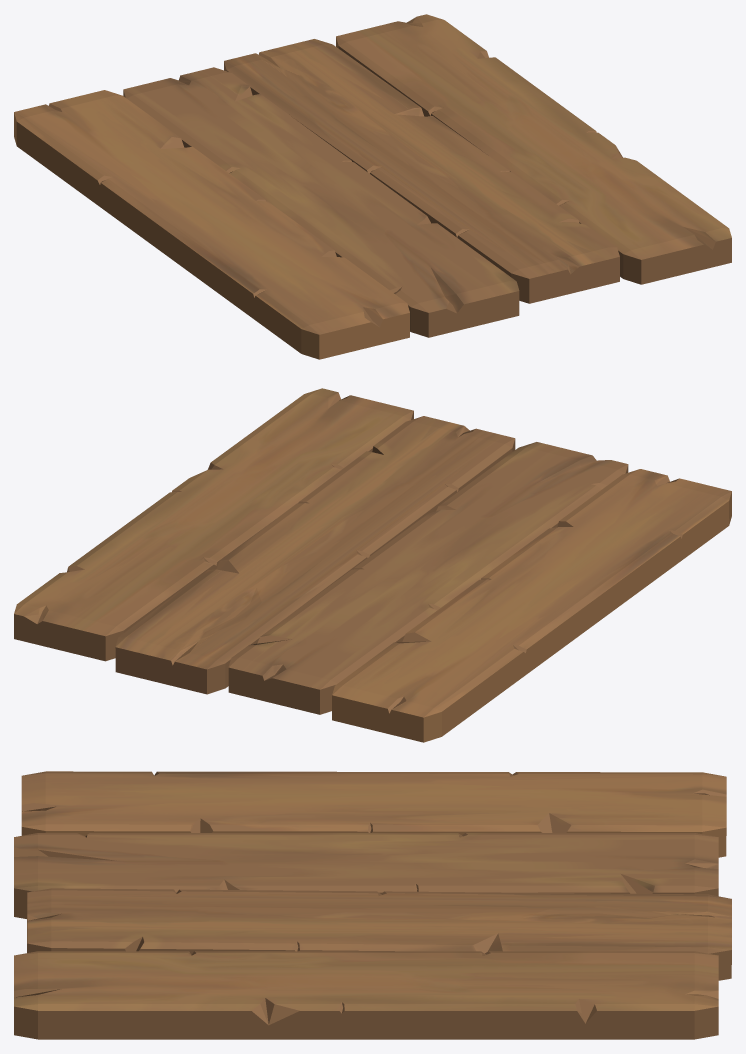
The model's file is wooden_table.glb.
3 renders of one model, top to bottom at view 1: azimuth 30°, elevation 25°; view 2: azimuth 150°, elevation 25°; view 3: azimuth 270°, elevation 25°, orthographic. The views are drawn at different scales.
Visible parts, largest first — view 1: Board1, Board4, Board3, Board2; view 2: Board1, Board3, Board4, Board2; view 3: Board4, Board1, Board3, Board2.
Boxes of the visible parts, <box> form: Board1: <box>14,90,409,359</box>; Board4: <box>336,14,731,284</box>; Board3: <box>224,39,619,303</box>; Board2: <box>123,67,519,337</box>; Board1: <box>332,469,731,742</box>; Board3: <box>115,416,515,694</box>; Board4: <box>14,388,413,661</box>; Board2: <box>228,442,628,714</box>; Board4: <box>14,951,718,1039</box>; Board1: <box>21,771,726,857</box>; Board3: <box>27,888,731,980</box>; Board2: <box>14,833,718,918</box>.
Size of the model in its own units: 8.01 by 0.6179 by 10.18.
4 materials, 4 textured.
